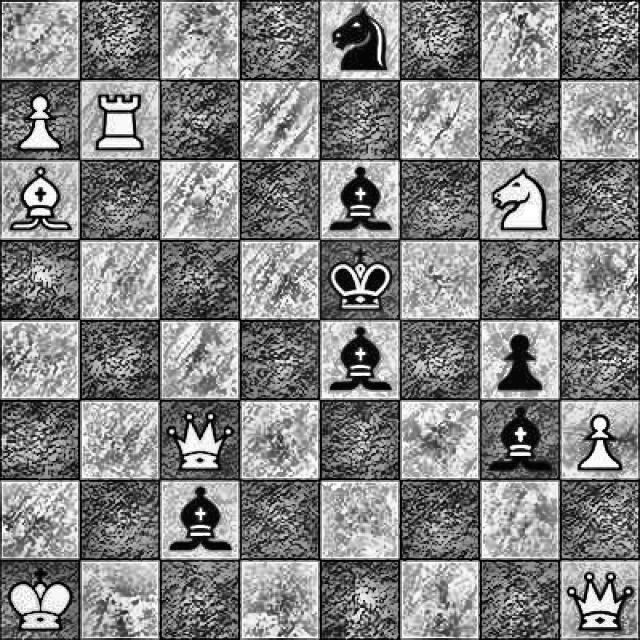Black Knight: (328, 6, 395, 73)
black bishop: (322, 320, 400, 404), (480, 400, 560, 481), (325, 158, 397, 237), (165, 482, 236, 554)
black king: (328, 239, 394, 317)
black pawn: (494, 332, 546, 393)
white bishop: (3, 161, 78, 236)
white king: (0, 559, 74, 637)
white pawn: (8, 86, 68, 154), (572, 412, 630, 476)
white queen: (564, 563, 634, 638), (165, 402, 234, 475)
white rook: (88, 85, 154, 156)
whiteknight: (481, 162, 555, 238)
